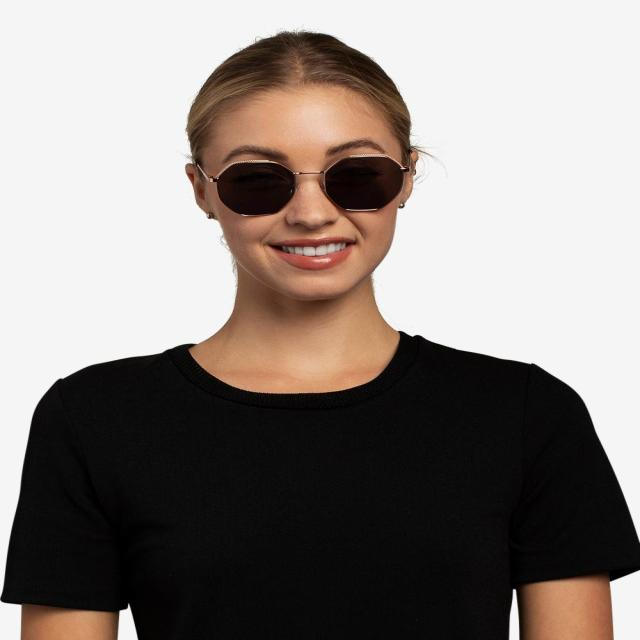2_gafas: (192, 150, 410, 217)
